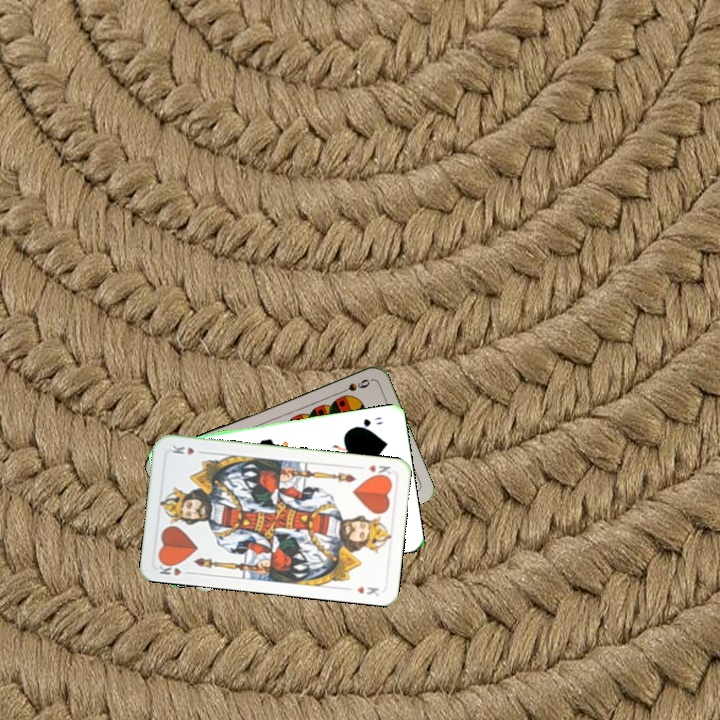GO: (349, 413, 386, 432)
HK: (154, 557, 195, 578), (364, 461, 393, 480)
S9: (334, 375, 373, 397)
